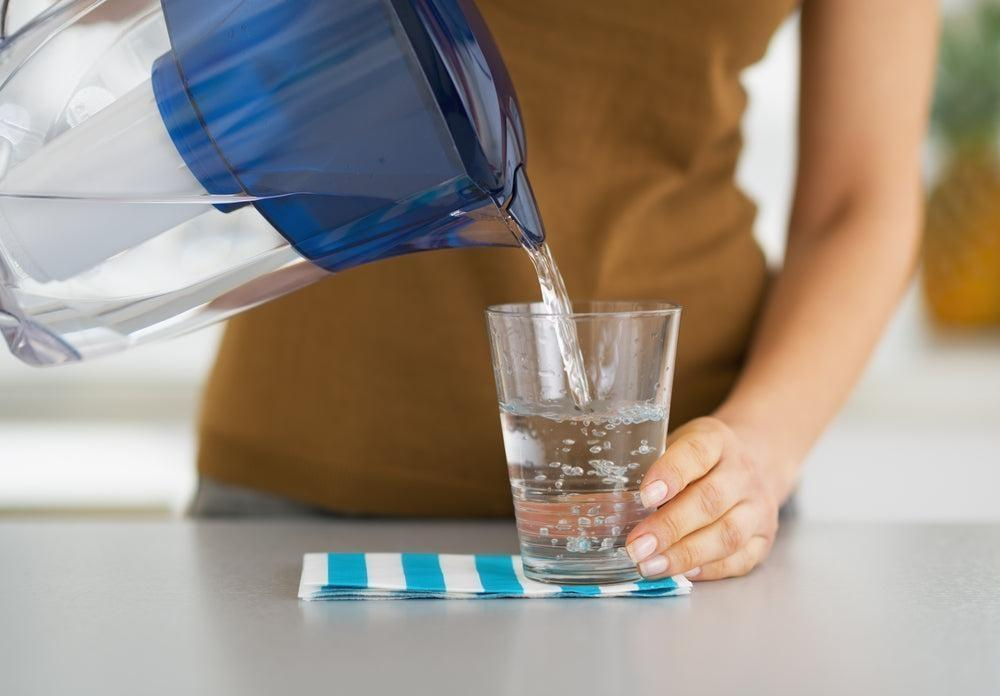glass-normal: (478, 302, 684, 586)
